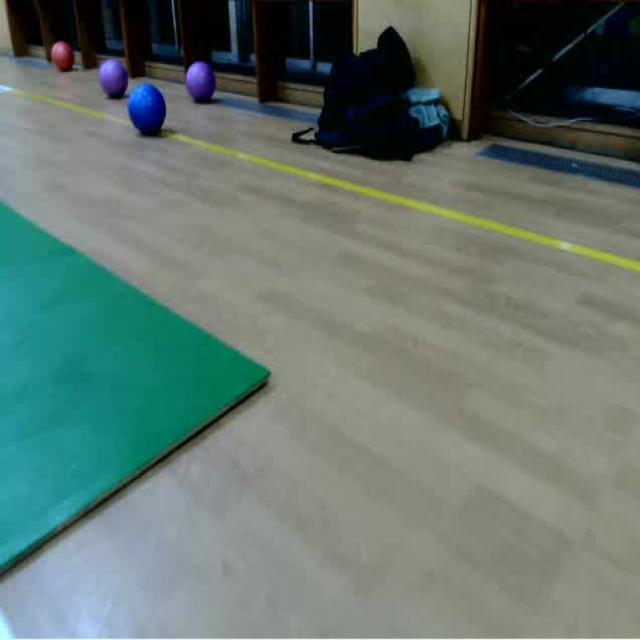blue_ball: (129, 85, 167, 137)
purple_ball: (183, 58, 216, 104), (98, 58, 130, 99)
red_ball: (48, 39, 76, 69)
